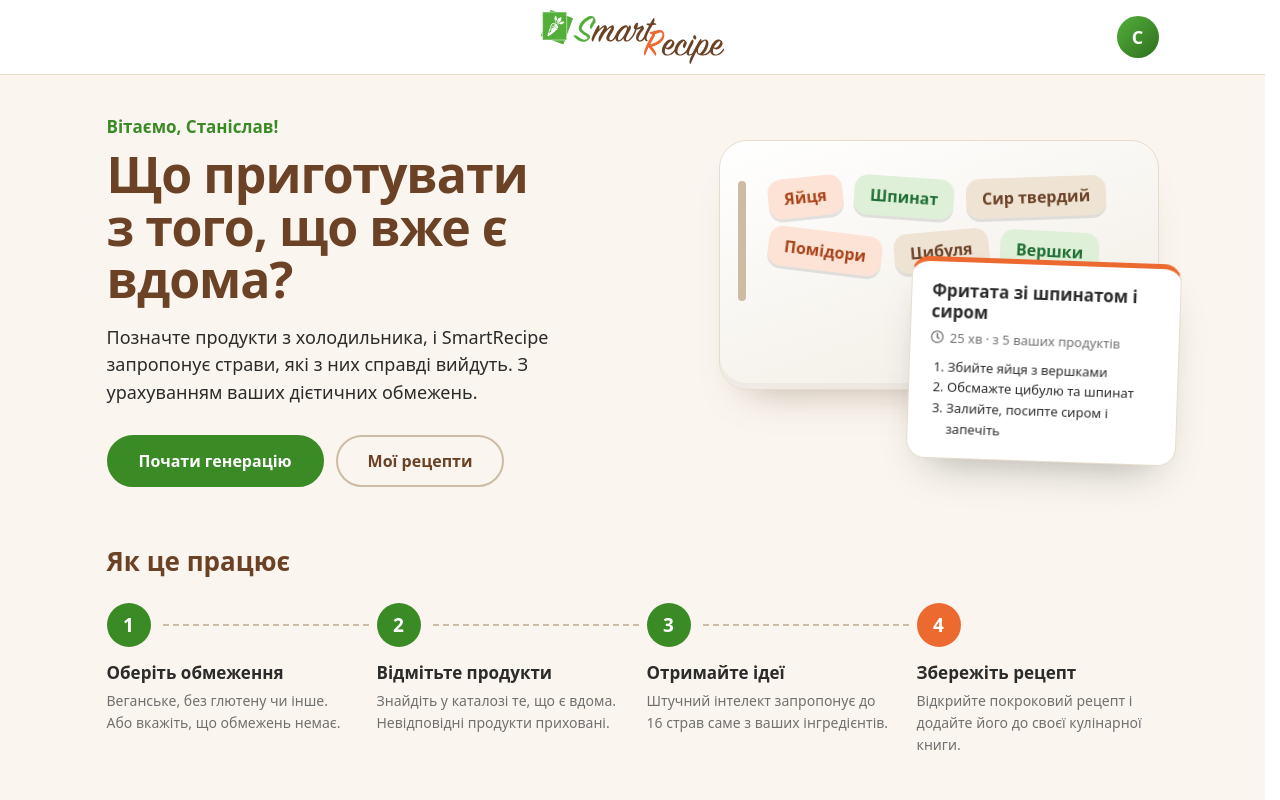
Scenario: User journeys: profile › changes password and logs out
The width and height of the screenshot is (1280, 800).
Click the link named "Профіль" at (1138, 37), box [1116,16,1158,58]
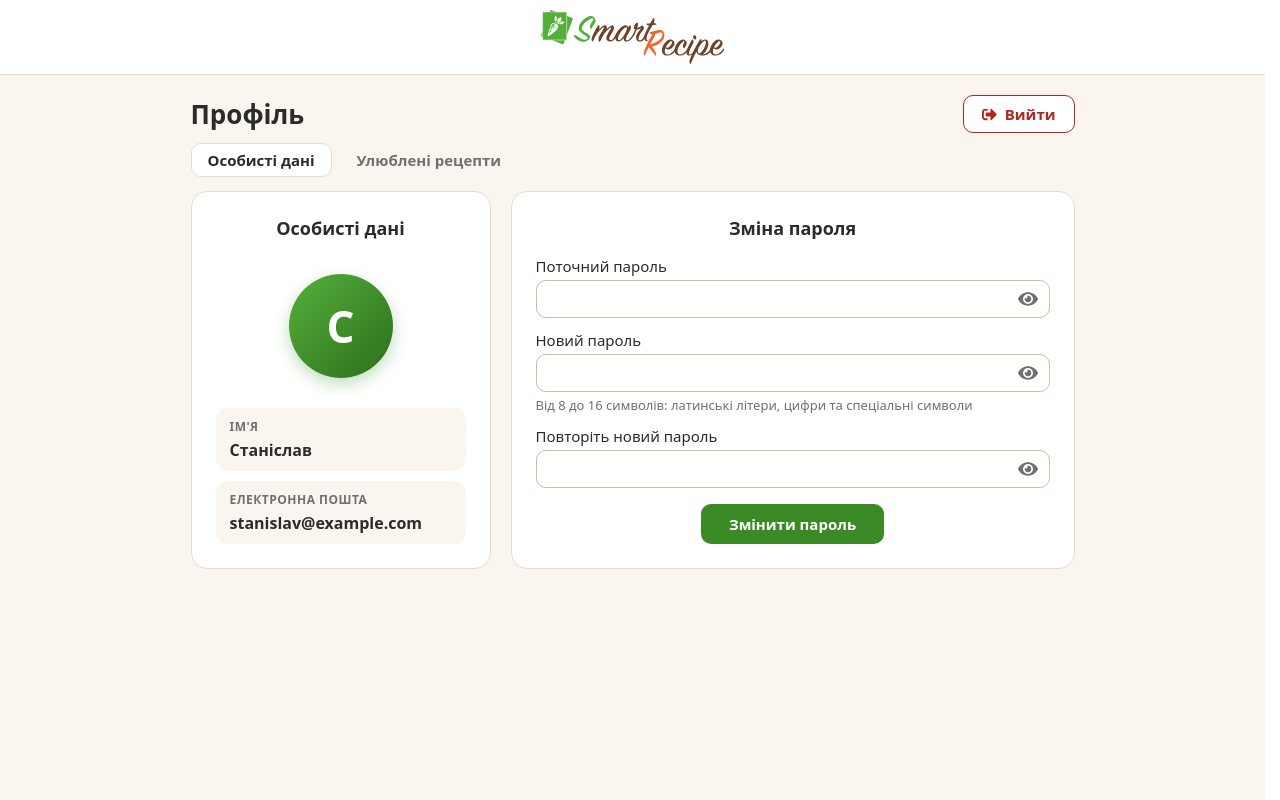
Expected: the text "stanislav@example.com" is shown, [230,512,452,534]
Type "Secret123" into the password field labelled "Поточний пароль" at (792, 299), box [536,280,1050,318]
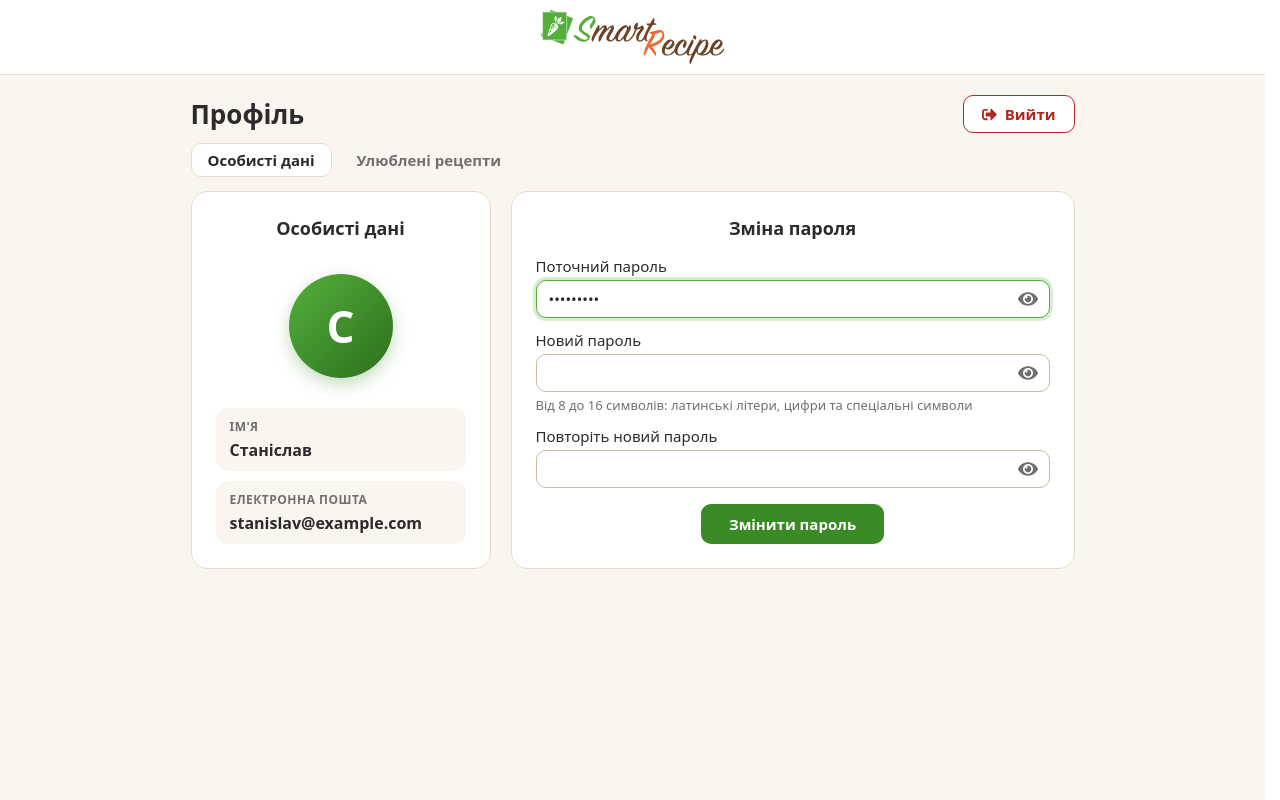
Type "NewPass123" into the password field labelled "Новий пароль" at (792, 373), box [536,354,1050,392]
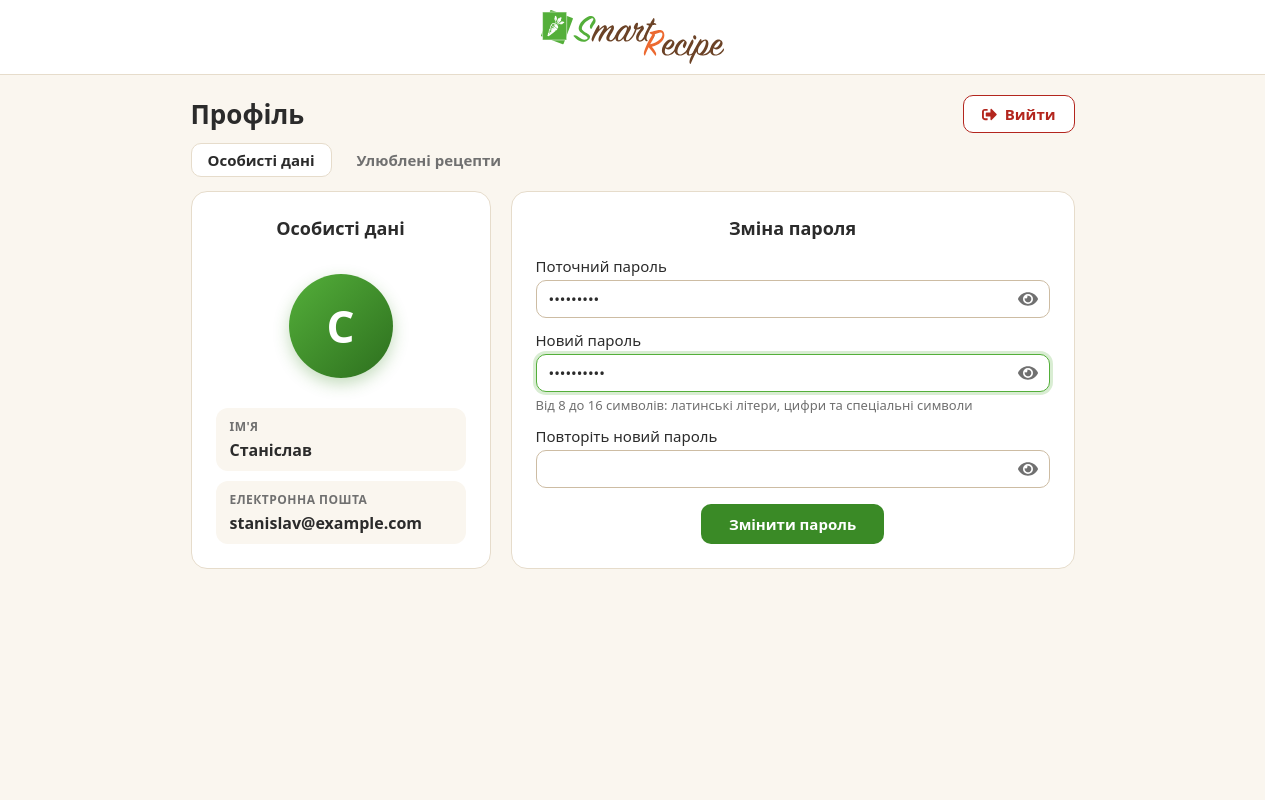
Type "NewPass123" into the password field labelled "Повторіть новий пароль" at (792, 469), box [536,450,1050,488]
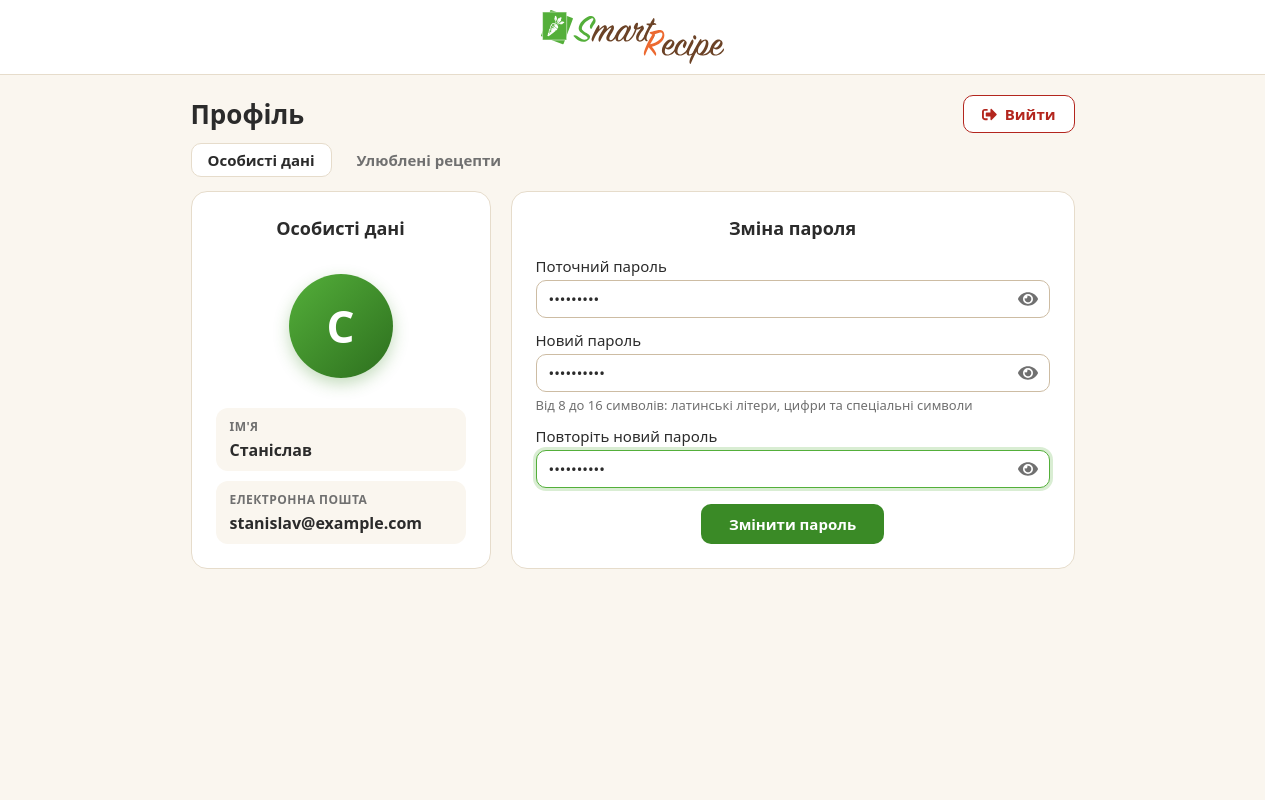
Click the button "Змінити пароль" at (792, 524), box [701,504,884,544]
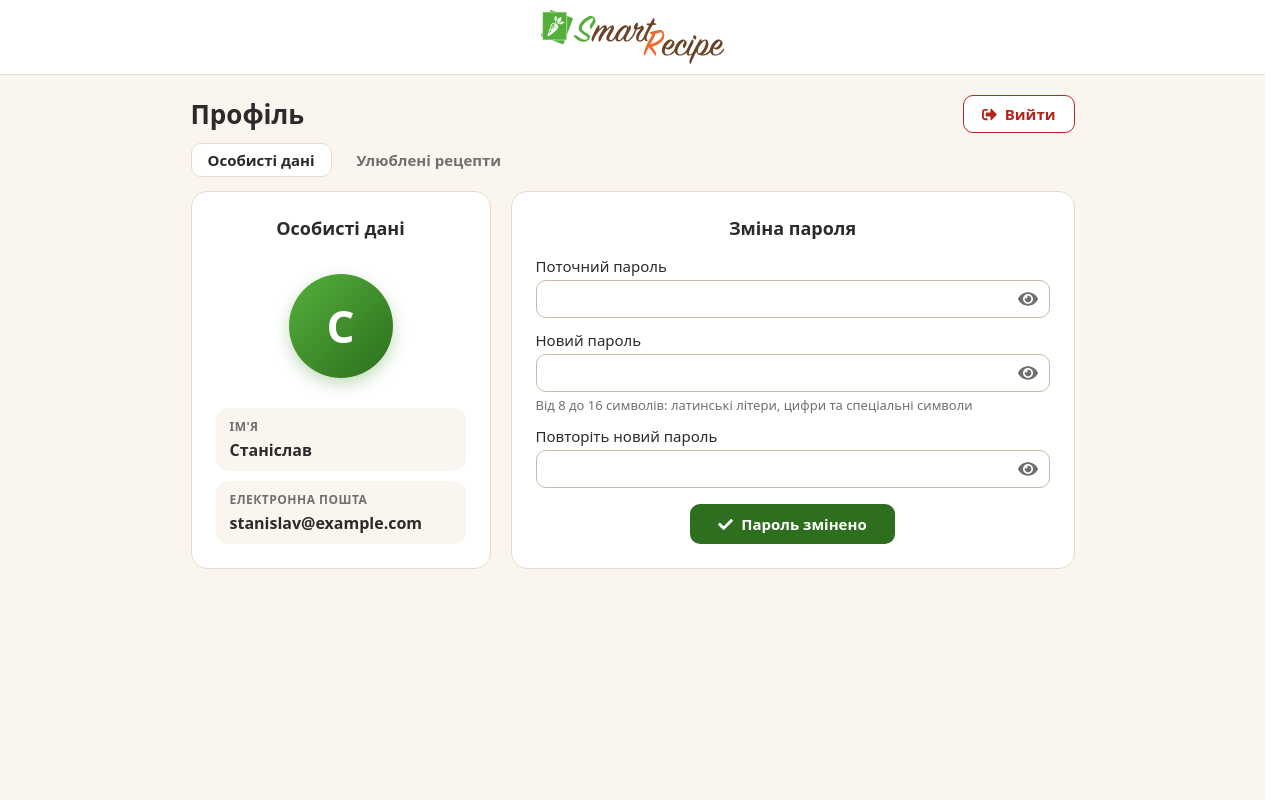
Expected: the button "Пароль змінено" is shown, [690,504,895,544]
Click the button "Вийти" at (1019, 114), box [963,95,1074,133]
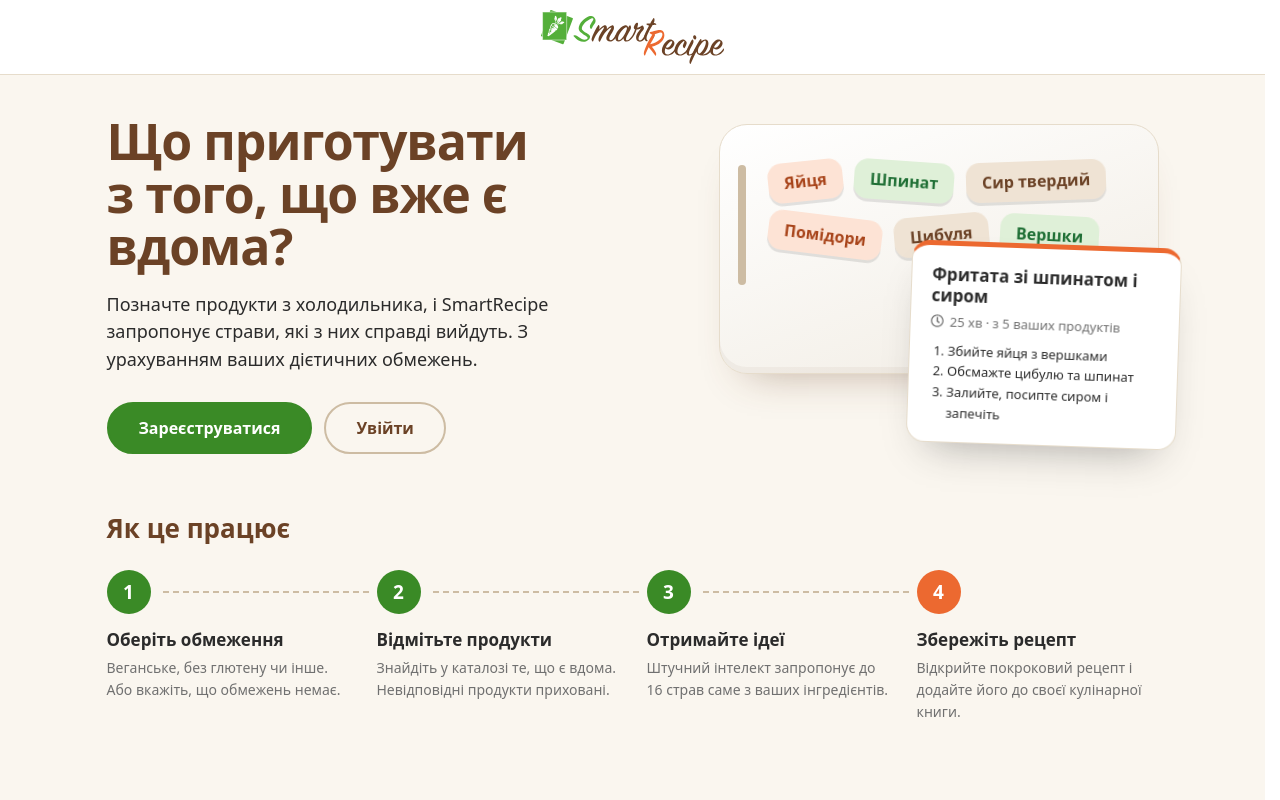
Expected: the link "Увійти" is shown, [324,402,446,454]
